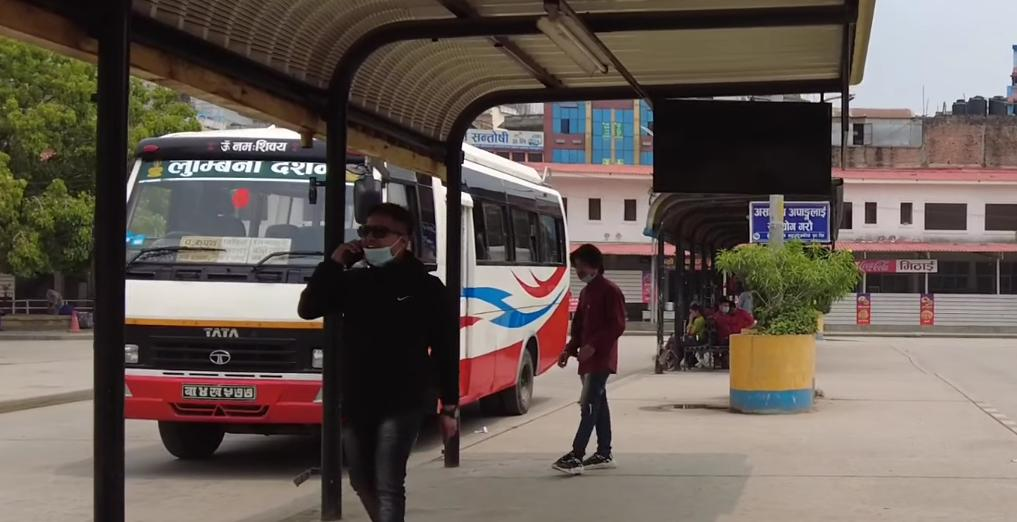bus: (106, 101, 576, 449)
